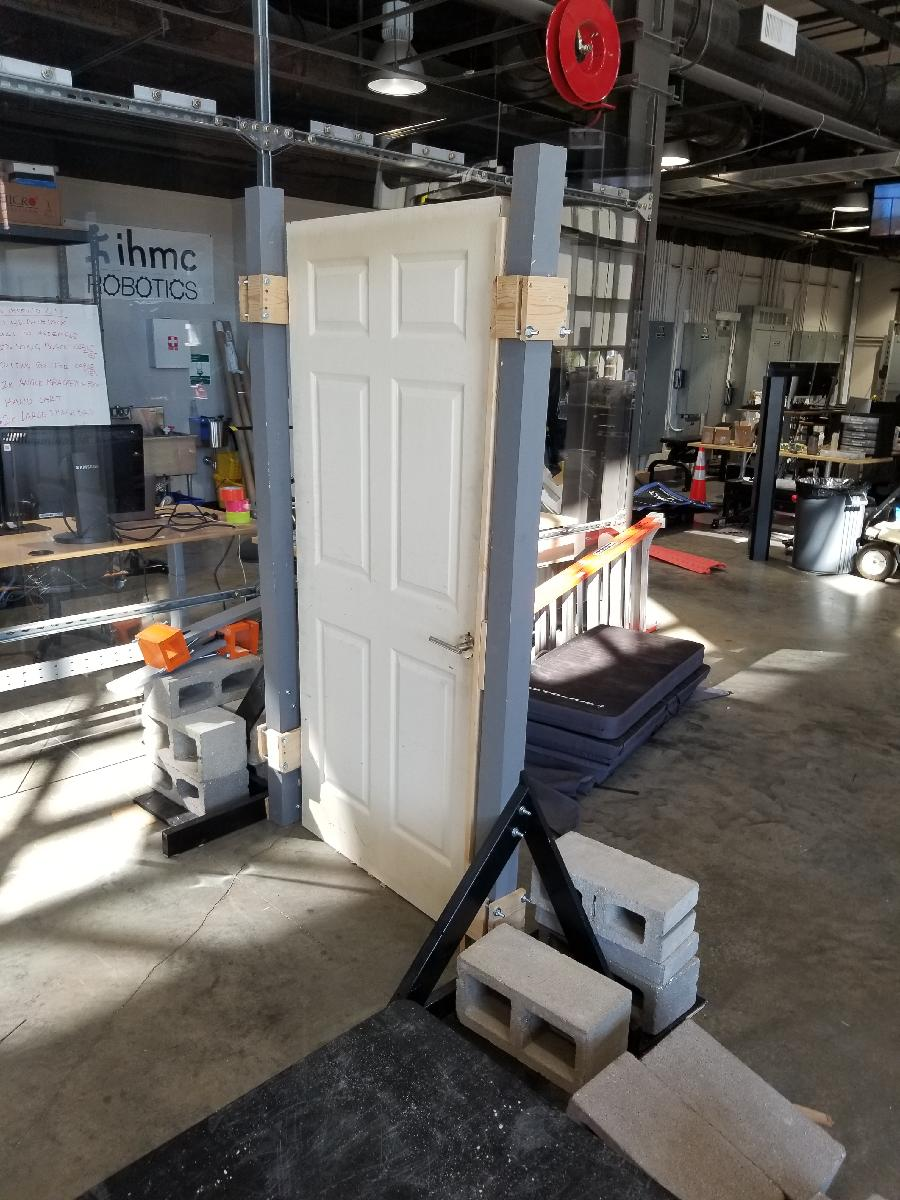door: (279, 196, 506, 941)
doorHandle: (424, 619, 482, 670)
